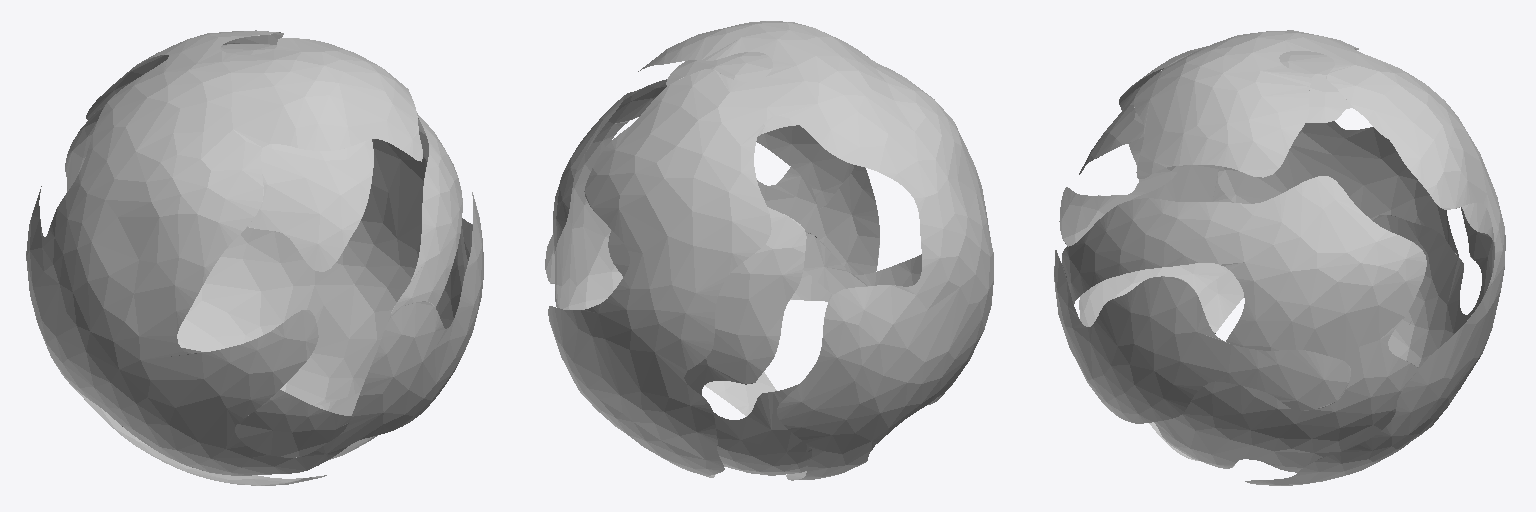
Rendered from planet_clouds.obj.
3 views of the same model, side by side, from view 1: azimuth 30°, elevation 25°; view 2: azimuth 150°, elevation 25°; view 3: azimuth 270°, elevation 25° (orthographic).
Size of the model in its own units: 75.22 by 75.5 by 75.27.